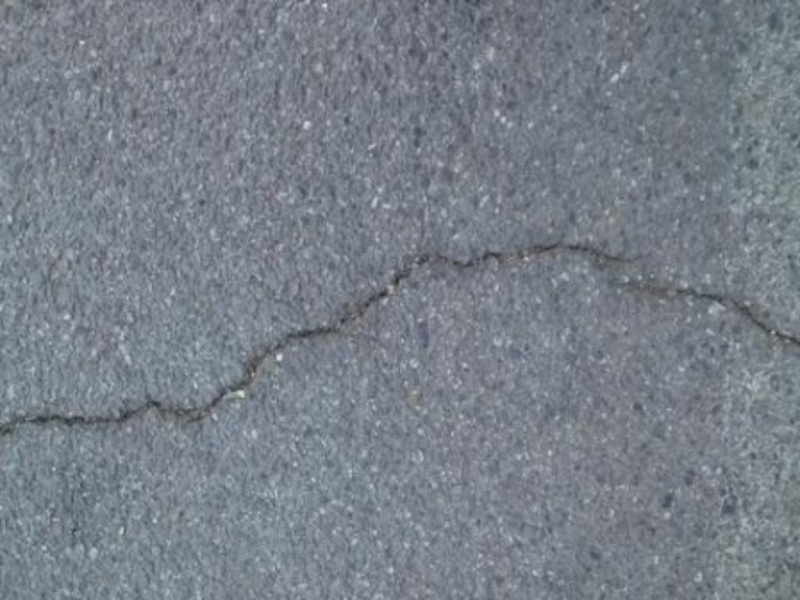crack: (13, 241, 799, 493)
